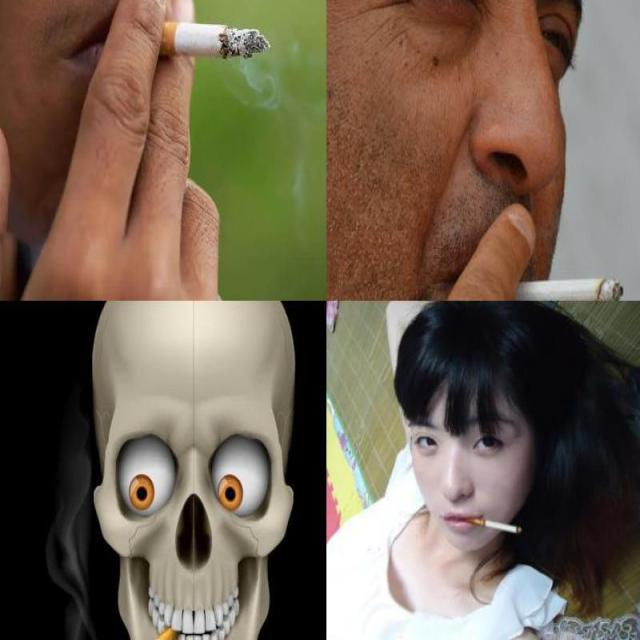smoking: (111, 16, 270, 60), (491, 273, 627, 300), (464, 515, 524, 536)
